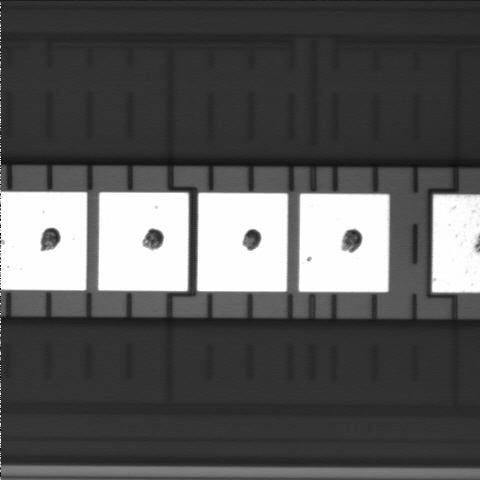pad: (98, 192, 189, 291), (197, 193, 288, 292), (299, 194, 389, 292)
